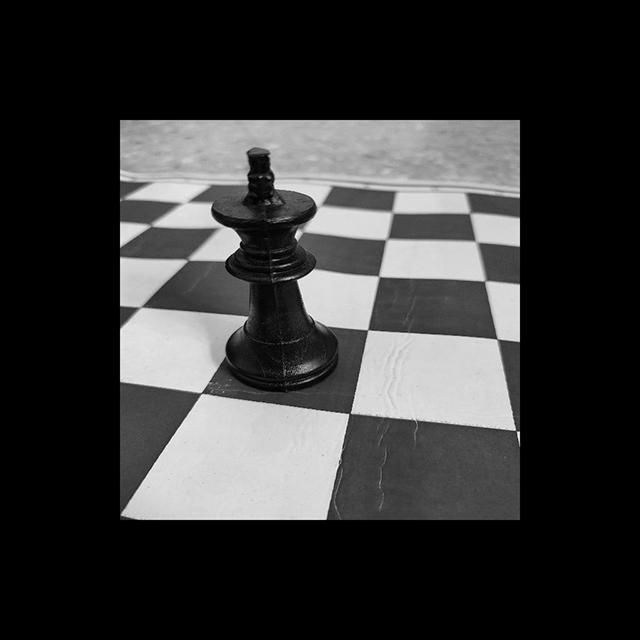black-king: (212, 147, 340, 392)
